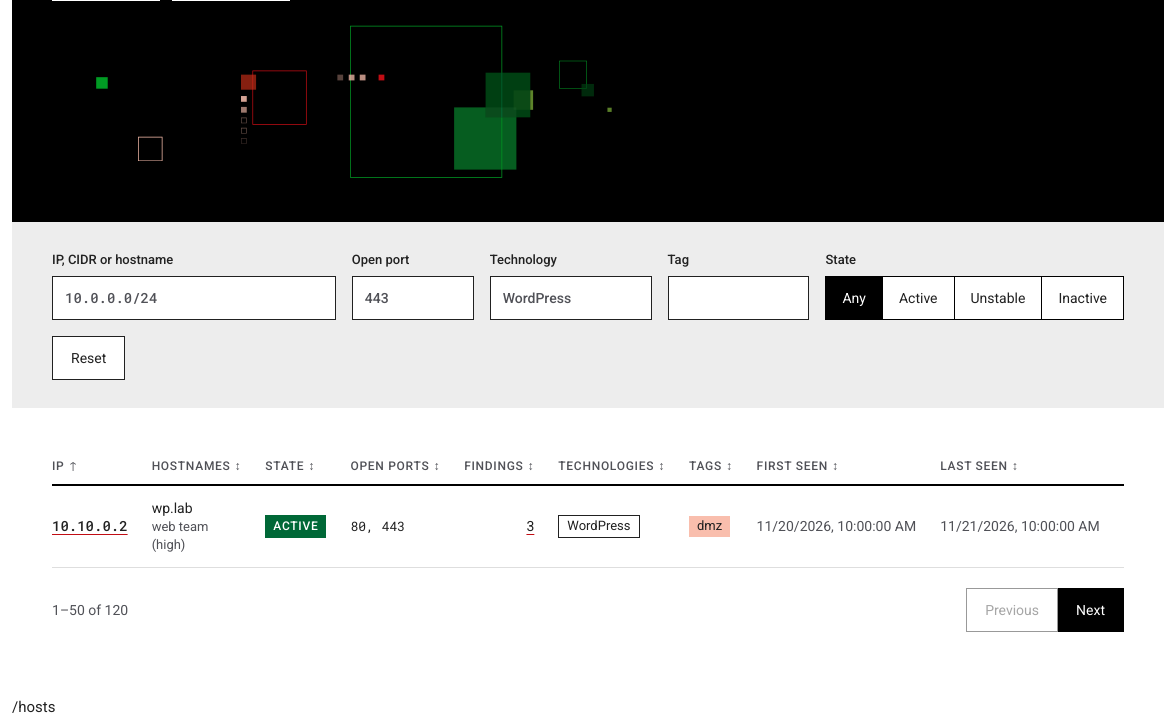
Test: HostsPage › paginates through the URL and shows an empty state
(page scrolled)
Expected: the text "1–50 of 120" is shown, [52, 600, 128, 620]
Click the button "Next" at (1091, 610), box [1058, 588, 1124, 632]
(page scrolled)
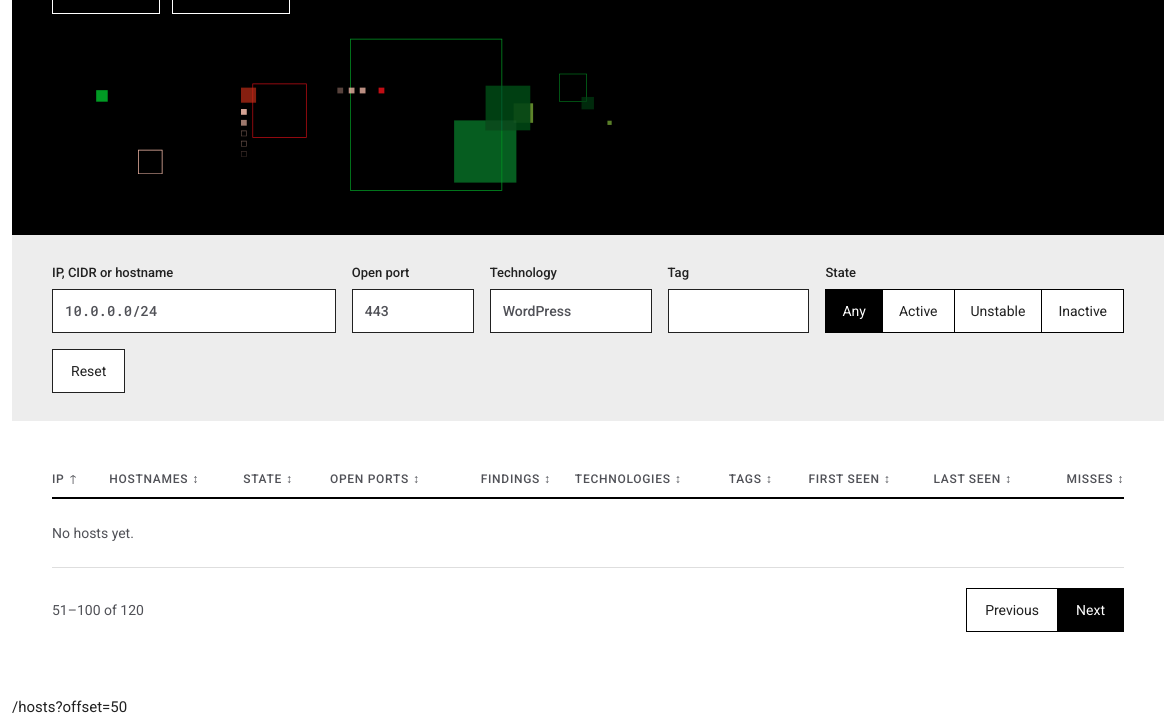
Result: the text with test id "location" reads "/hosts?offset=50" at [12, 698, 127, 716]
Result: the text "51–100 of 120" is shown at [52, 600, 144, 620]
